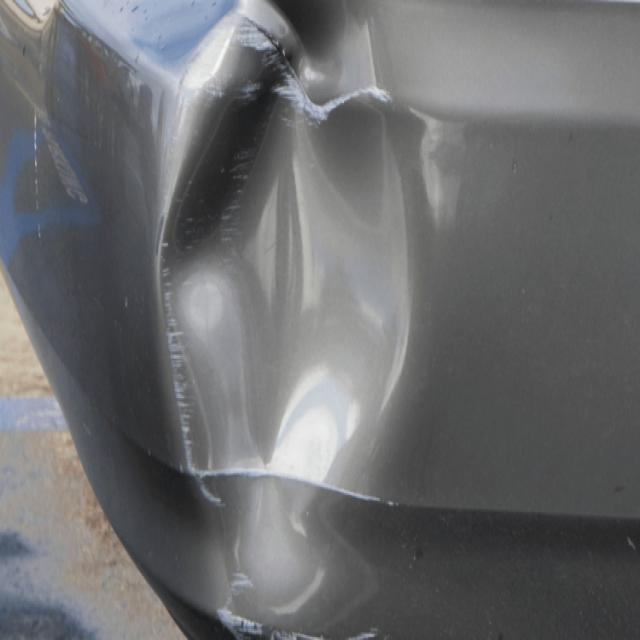dent: (139, 0, 417, 620)
scratch: (155, 13, 470, 640), (54, 0, 149, 91), (329, 479, 399, 511), (32, 98, 43, 241)
